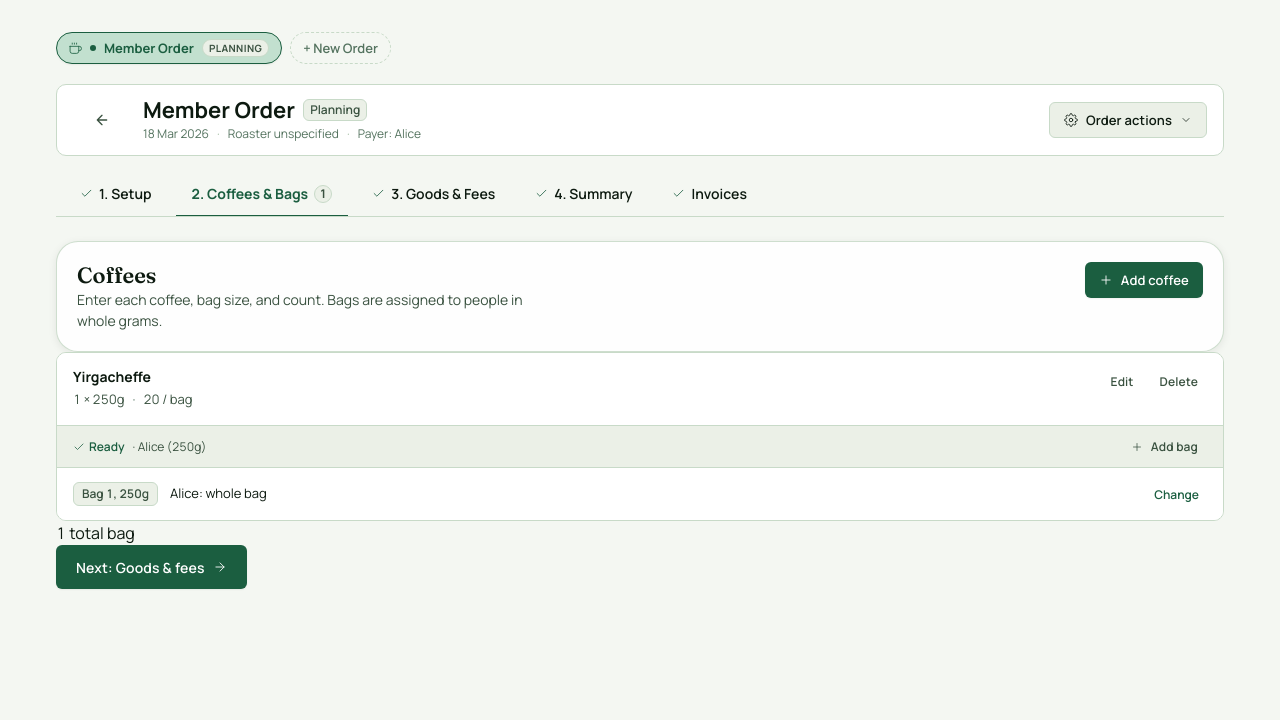
it: OrderPage component tests › BUG-AUTH-05: allows workspace admin to manage invoices on order created by another member
The image size is (1280, 720).
What coordinates should you click on to do the following:
click the tab with class "order-section-tab" showing "Invoices"
I would click on:
 (710, 195)
Its box is [656,172,763,217].
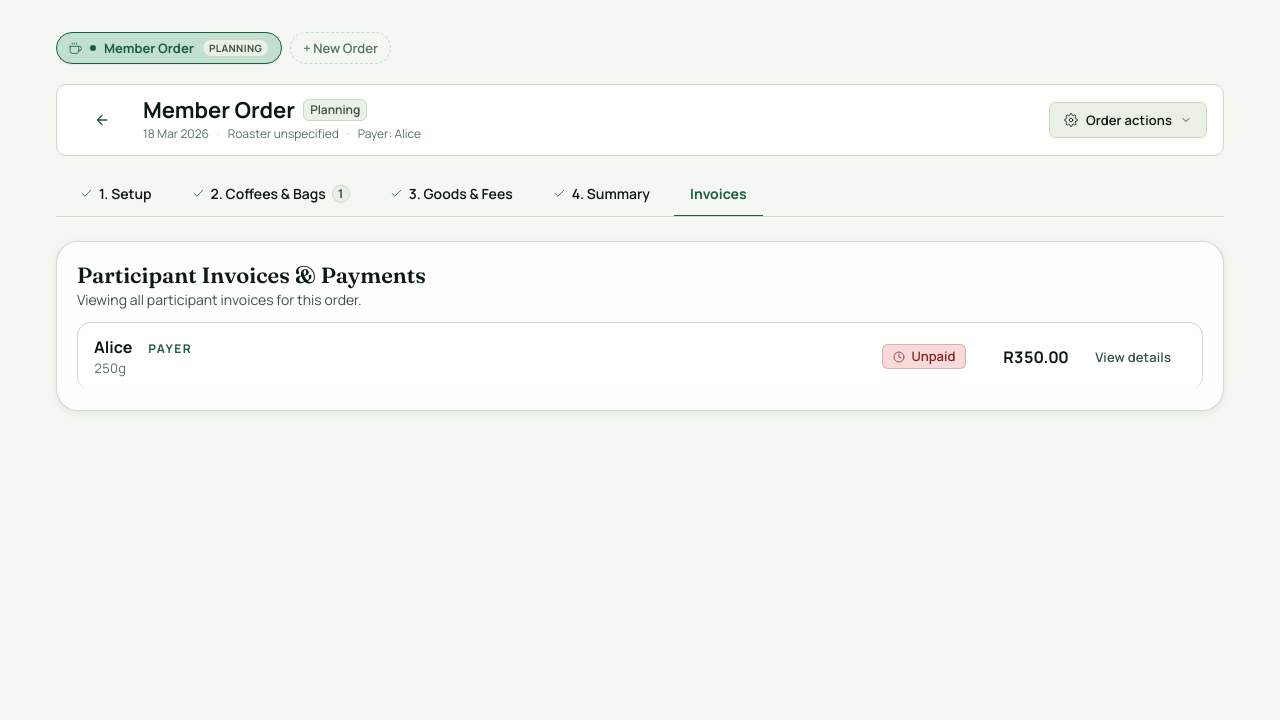
Expected: the text "Viewing all participant invoices for this order." is shown, [77,290,362,309]
